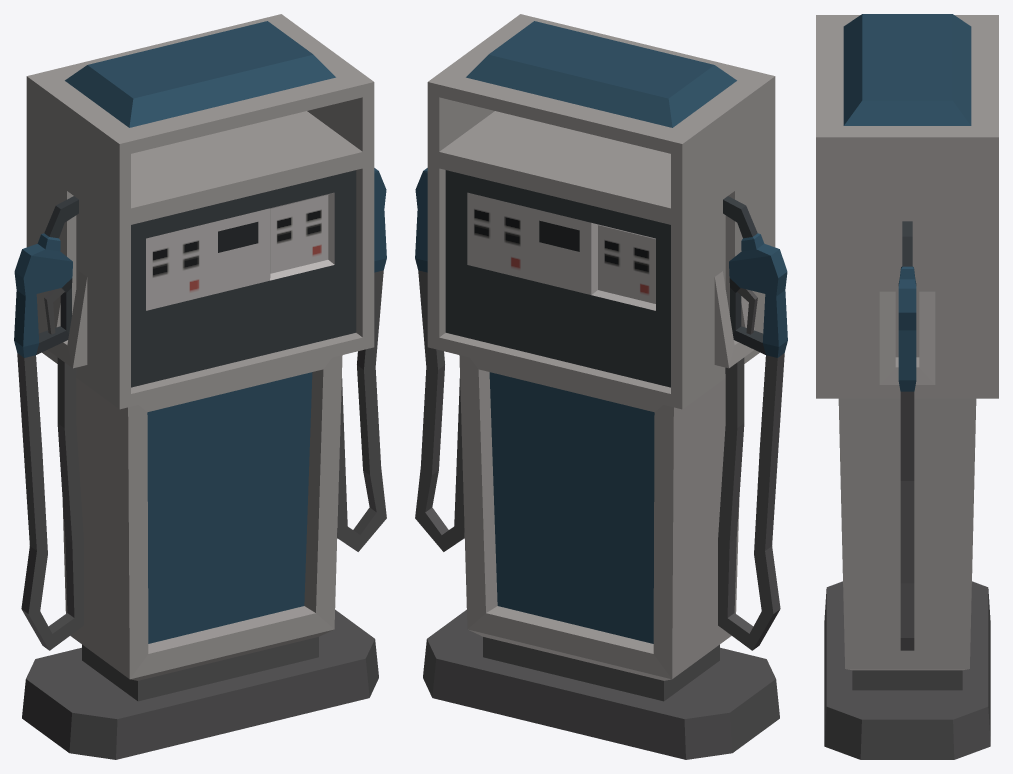
The model's file is SM_Prop_Gaspump_01.glb.
The picture shows the model from 3 angles, left to right: view 1: azimuth 30°, elevation 25°; view 2: azimuth 150°, elevation 25°; view 3: azimuth 270°, elevation 25°; orthographic projection.
Visible parts, largest first — view 1: SM_Prop_Gaspump_01; view 2: SM_Prop_Gaspump_01; view 3: SM_Prop_Gaspump_01.
Part boxes in pixels (bbox=[...]): SM_Prop_Gaspump_01: bbox=[14, 14, 386, 759]; SM_Prop_Gaspump_01: bbox=[415, 14, 787, 759]; SM_Prop_Gaspump_01: bbox=[816, 14, 998, 759].
Size of the model in its own units: 1.45 by 2.43 by 0.6399.
1 material, 1 textured.
